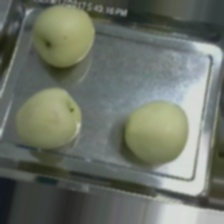apple: (12, 42, 195, 194)
